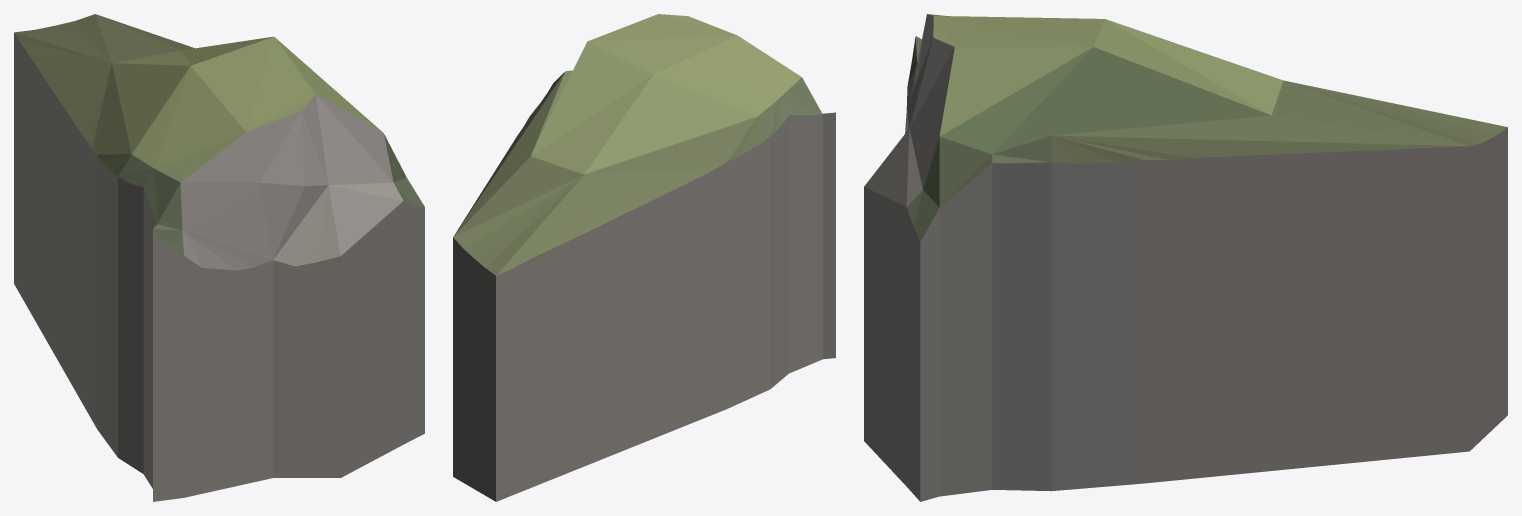
The model's file is cliff_front_columns.glb.
The picture shows the model from 3 angles, left to right: view 1: azimuth 30°, elevation 25°; view 2: azimuth 150°, elevation 25°; view 3: azimuth 270°, elevation 25°; orthographic projection. The views are drawn at different scales.
Visible parts, largest first — view 1: cliff_front_columns; view 2: cliff_front_columns; view 3: cliff_front_columns.
Boxes of the visible parts, <box> form: cliff_front_columns: <box>14,14,424,501</box>; cliff_front_columns: <box>453,14,835,501</box>; cliff_front_columns: <box>864,14,1507,501</box>.
Size of the model in its own units: 54.99 by 69.04 by 97.56.
